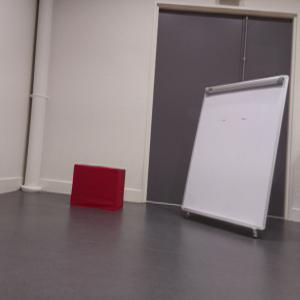big: (184, 75, 289, 233)
medium: (69, 163, 125, 210)
